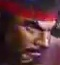ryu: (9, 4, 59, 64)
